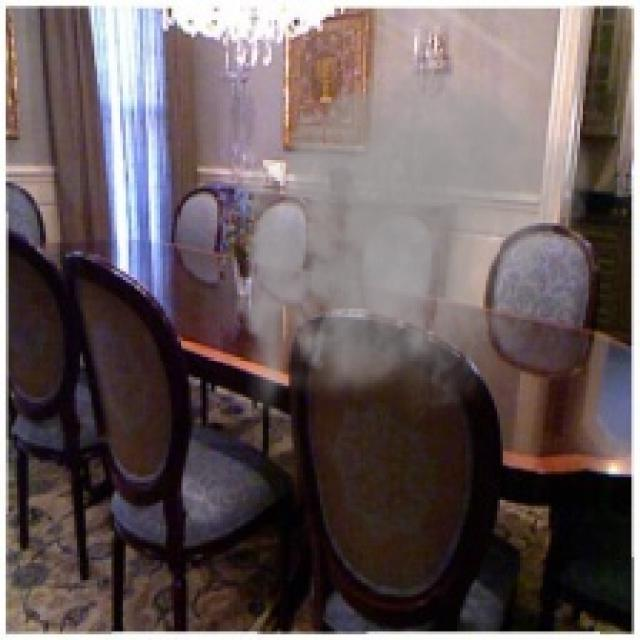Smoke: (217, 37, 603, 429)
